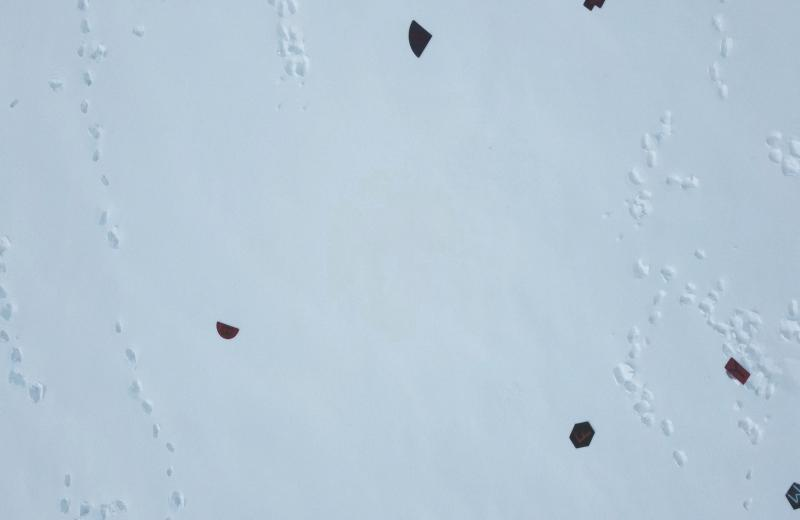Hexagon: (570, 417, 601, 452)
Quarter Circle: (405, 16, 437, 64)
Rectangle: (0, 0, 800, 520), (722, 352, 752, 392)
Semi Circle: (213, 316, 240, 346)
